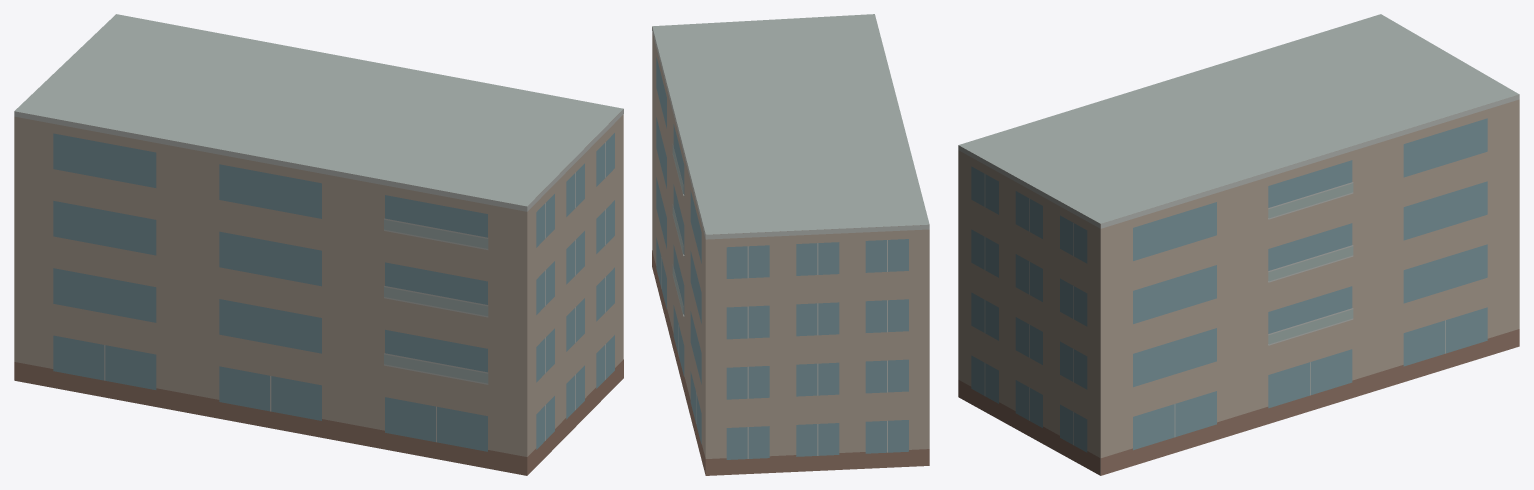
File: survey-upis-32822351.glb
3 views of the same model, side by side, from view 1: azimuth 30°, elevation 25°; view 2: azimuth 150°, elevation 25°; view 3: azimuth 270°, elevation 25° (orthographic). The views are drawn at different scales.
Parts seen in each view (by area): view 1: survey-upis-32822351.tmp; view 2: survey-upis-32822351.tmp; view 3: survey-upis-32822351.tmp.
Boxes of the visible parts, x1=… form: survey-upis-32822351.tmp: x1=14, y1=14, x2=623, y2=475; survey-upis-32822351.tmp: x1=652, y1=14, x2=929, y2=475; survey-upis-32822351.tmp: x1=958, y1=14, x2=1519, y2=475.
Bounding box in the file's own units: 21.98 × 12.3 × 24.83.
